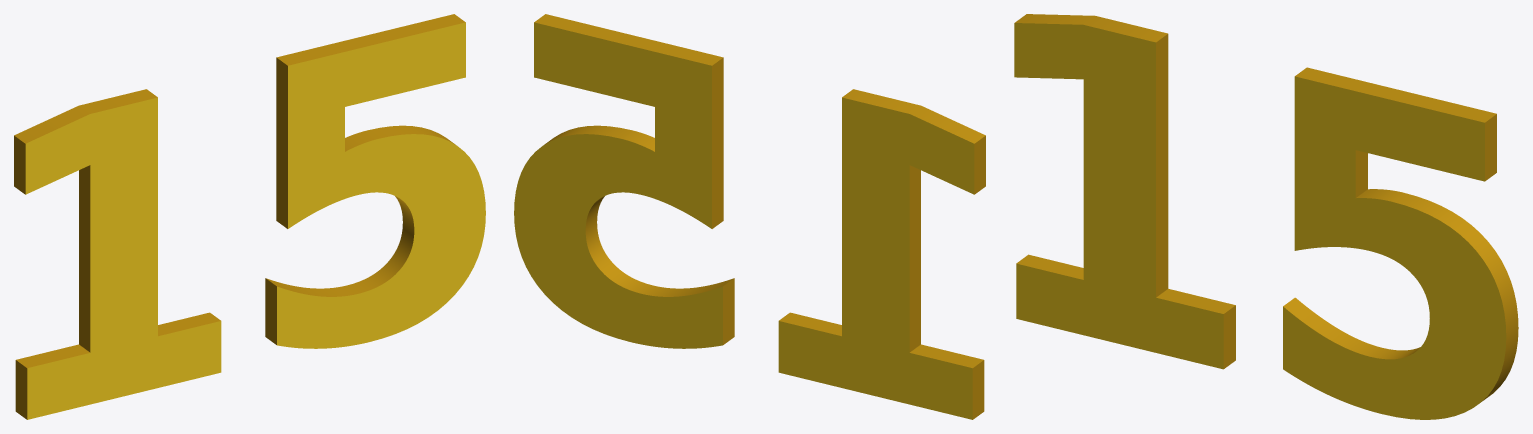
File: Pts15.obj
3 views of the same model, side by side, from view 1: azimuth 30°, elevation 25°; view 2: azimuth 150°, elevation 25°; view 3: azimuth 330°, elevation 25° (orthographic). The views are drawn at different scales.
Parts seen in each view (by area): view 1: Pts15; view 2: Pts15; view 3: Pts15.
Boxes of the visible parts, x1,y1,x2,y2 form: Pts15: (14,14,485,419); Pts15: (514,14,985,419); Pts15: (1014,14,1518,419).
Bounding box in the file's own units: 0.9287 × 0.571 × 0.04.
1 material, 1 textured.
